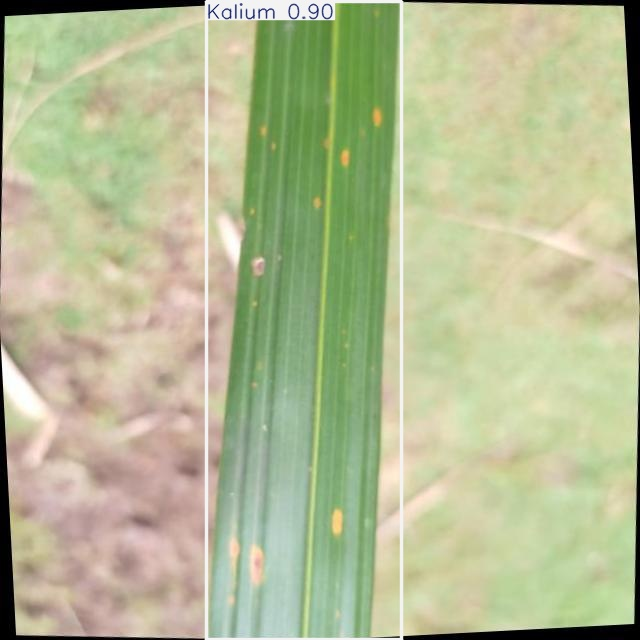Kalium: (206, 1, 402, 639)
